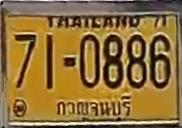0: (79, 34, 99, 86)
1: (46, 34, 52, 88)
6: (149, 34, 170, 88)
7: (14, 33, 35, 87)
8: (126, 34, 146, 88), (102, 34, 122, 88)
KRI: (54, 93, 132, 120)
